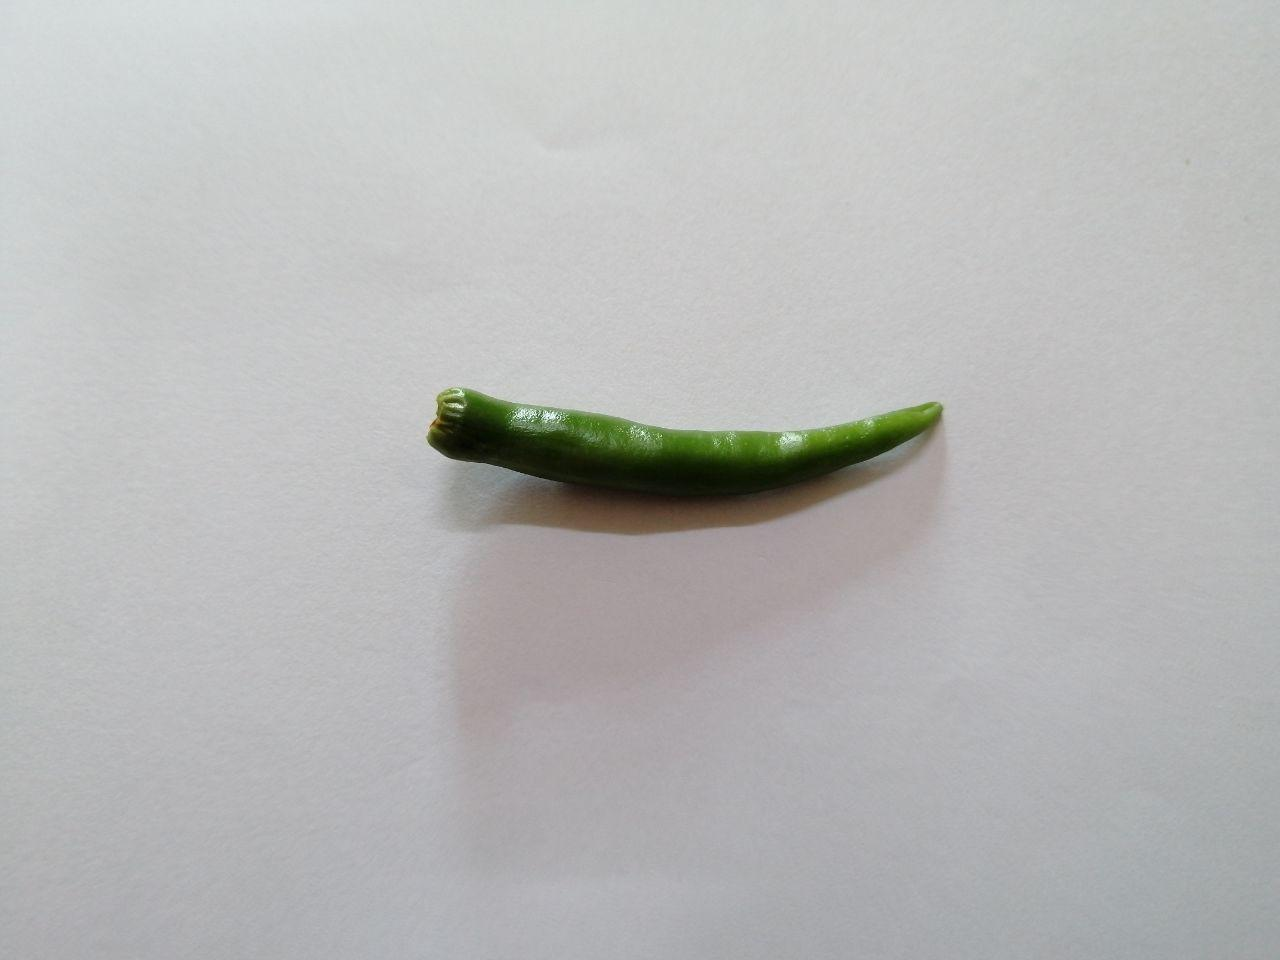lada hijau: (396, 353, 972, 541)
